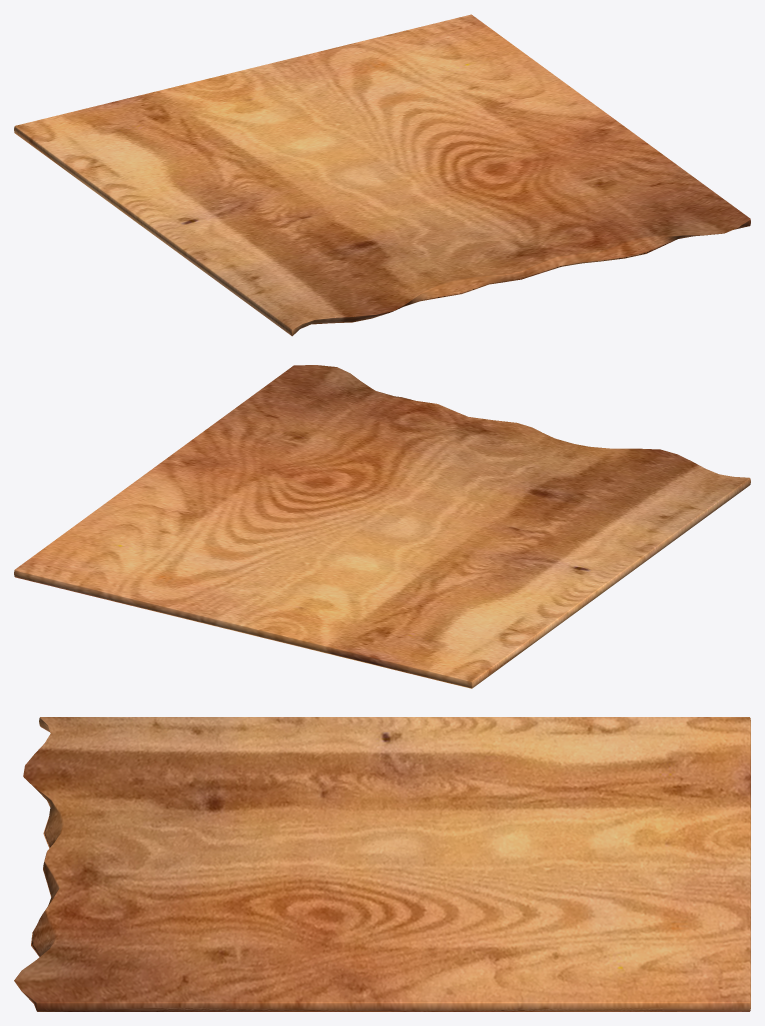
File: PlyWood-Snapped_HighRes.fbx
The picture shows the model from 3 angles, top to bottom: view 1: azimuth 30°, elevation 25°; view 2: azimuth 150°, elevation 25°; view 3: azimuth 270°, elevation 25°; orthographic projection. The views are drawn at different scales.
Visible parts, largest first — view 1: pCube1; view 2: pCube1; view 3: pCube1.
Boxes of the visible parts, box(x1,y1,x2,y2) form: pCube1: box(14, 14, 750, 336); pCube1: box(14, 365, 750, 688); pCube1: box(14, 717, 750, 1011).
Bounding box in the file's own units: 1.22 × 0.02 × 1.33.
